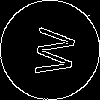W: (25, 25, 76, 78)
